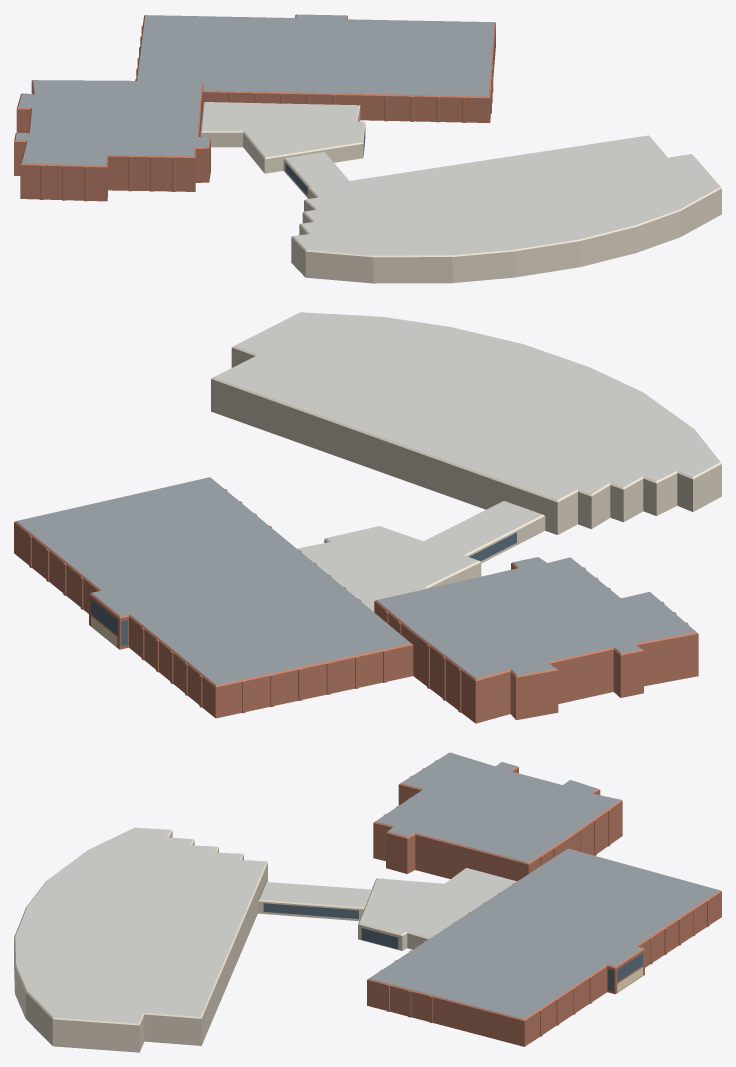
File: park-expo-center.glb
3 renders of one model, top to bottom at view 1: azimuth 30°, elevation 25°; view 2: azimuth 150°, elevation 25°; view 3: azimuth 270°, elevation 25°, orthographic. The views are drawn at different scales.
Visible parts, largest first — view 1: Park Expo and Conference Center; view 2: Park Expo and Conference Center; view 3: Park Expo and Conference Center.
Part boxes in pixels (left/top/right/bottom): Park Expo and Conference Center: left=14, top=14, right=721, bottom=283; Park Expo and Conference Center: left=14, top=312, right=721, bottom=723; Park Expo and Conference Center: left=14, top=752, right=721, bottom=1052.
Bounding box in the file's own units: 210 × 13.5 × 238.
